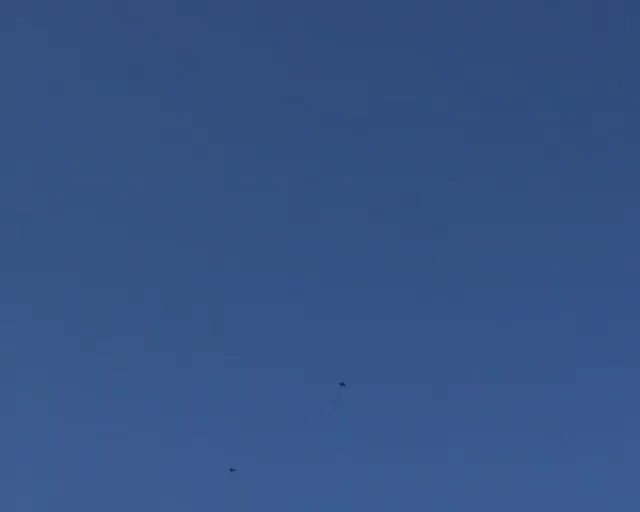BIRD: (336, 379, 349, 390)
